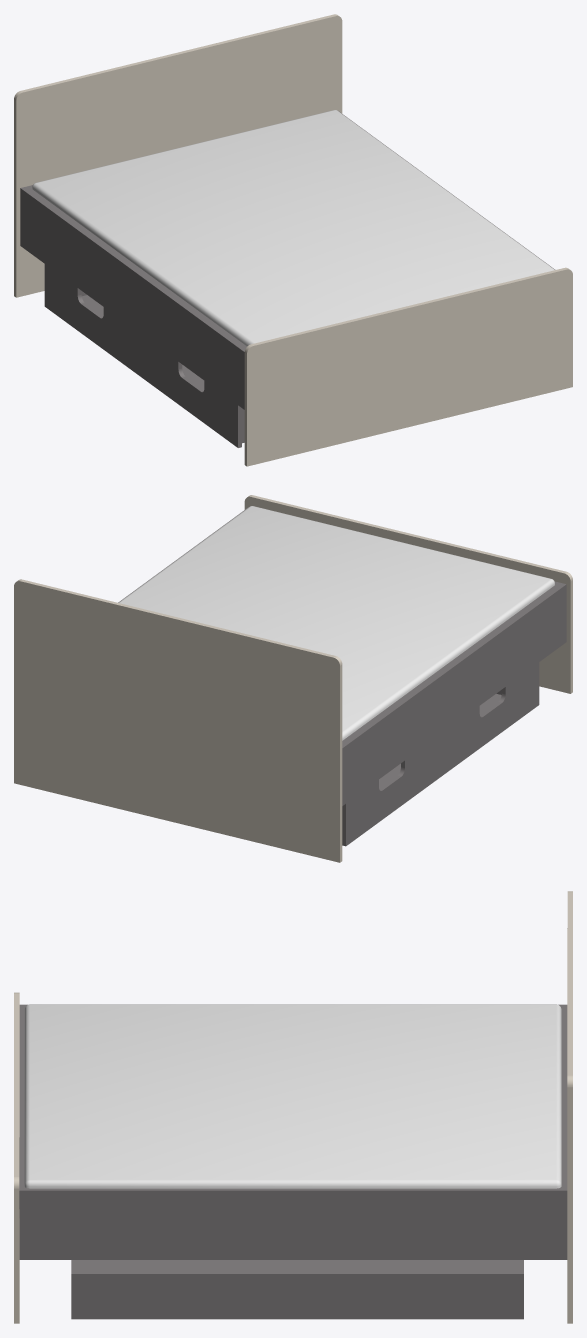
Rendered from 2pir_lozko2os_plaski_szczyt_160.obj.
3 renders of one model, top to bottom at view 1: azimuth 30°, elevation 25°; view 2: azimuth 150°, elevation 25°; view 3: azimuth 270°, elevation 25°, orthographic. The views are drawn at different scales.
Parts seen in each view (by area): view 1: ChamferBox01, Rectangle16, Rectangle17, Box02, Rectangle01, Box01; view 2: Rectangle17, ChamferBox01, Box02, Rectangle01, Rectangle16; view 3: ChamferBox01, Box02, Box01, Rectangle17, Rectangle16.
Boxes of the visible parts, left/top/right/bottom form: ChamferBox01: left=32, top=110, right=554, bottom=346; Rectangle16: left=244, top=267, right=572, bottom=466; Rectangle17: left=14, top=14, right=342, bottom=297; Box02: left=20, top=111, right=555, bottom=409; Rectangle01: left=44, top=264, right=241, bottom=447; Box01: left=81, top=291, right=244, bottom=443; Rectangle17: left=14, top=579, right=342, bottom=862; ChamferBox01: left=118, top=506, right=554, bottom=740; Box02: left=118, top=507, right=566, bottom=805; Rectangle01: left=342, top=662, right=539, bottom=846; Rectangle16: left=244, top=495, right=572, bottom=693; ChamferBox01: left=24, top=1004, right=561, bottom=1188; Box02: left=19, top=1004, right=567, bottom=1259; Box01: left=71, top=1260, right=523, bottom=1319; Rectangle17: left=567, top=891, right=572, bottom=1323; Rectangle16: left=14, top=992, right=19, bottom=1323.
Bounding box in the file's own units: 164 × 98.06 × 203.
